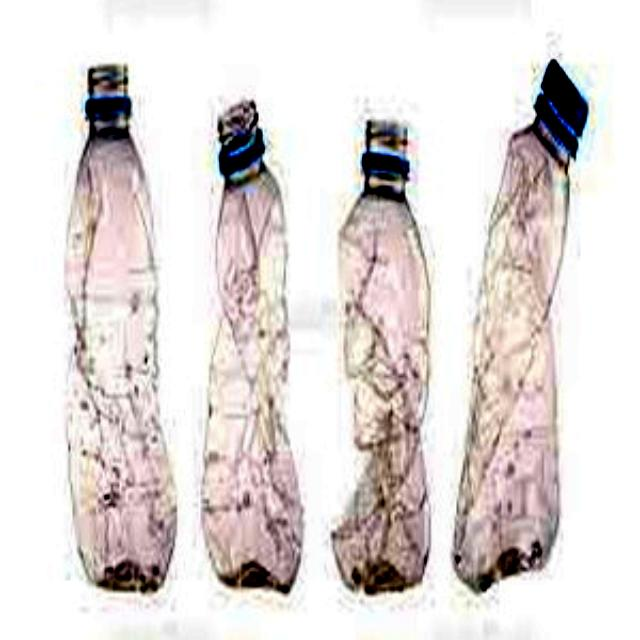Plastic: (457, 61, 588, 594), (194, 101, 308, 594), (330, 120, 444, 596), (77, 54, 177, 596)
